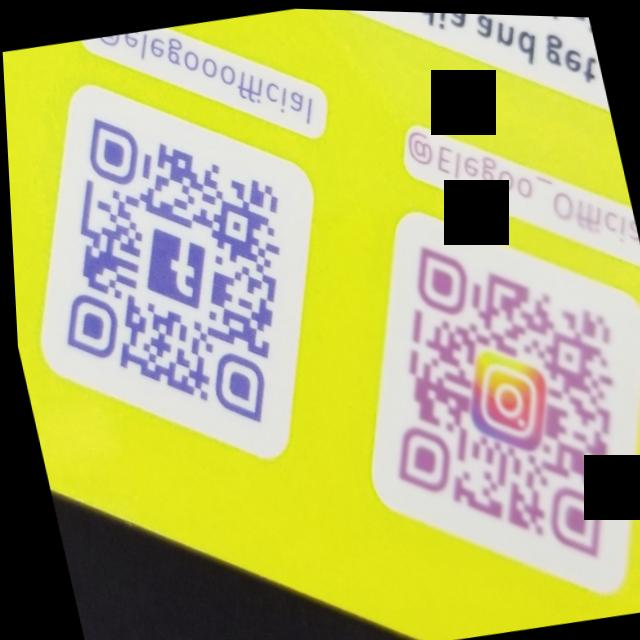QR_CODE: (2, 56, 337, 465), (333, 195, 640, 595)
